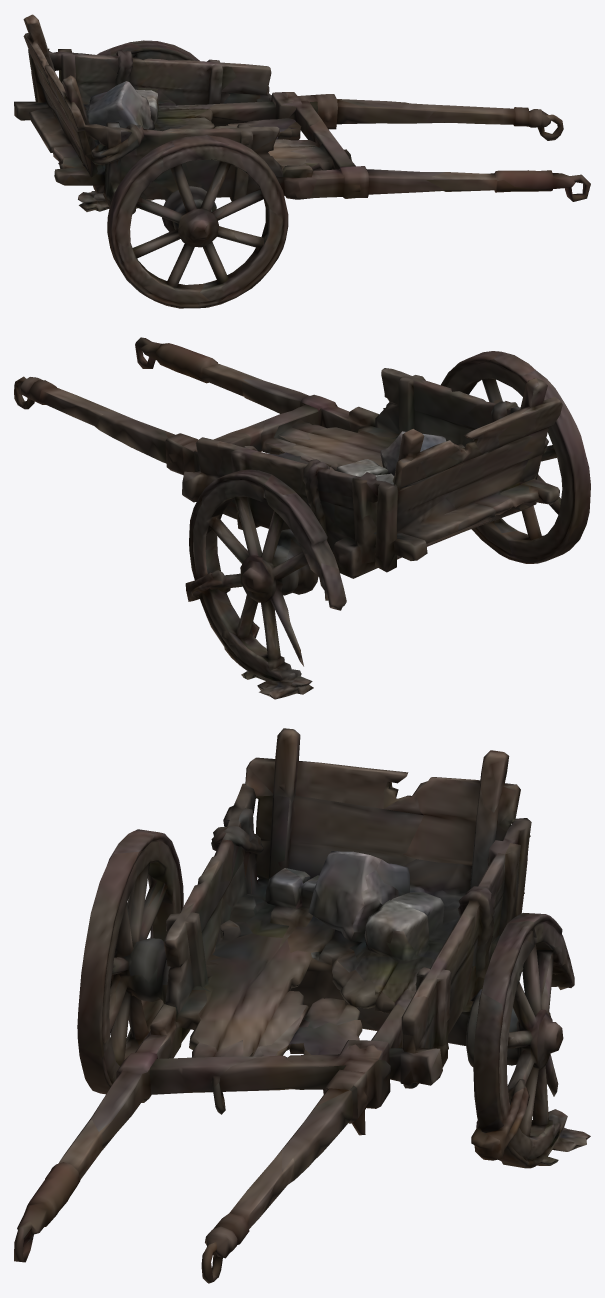
Rendered from broken-handcart.glb.
The picture shows the model from 3 angles, top to bottom: view 1: azimuth 30°, elevation 25°; view 2: azimuth 150°, elevation 25°; view 3: azimuth 270°, elevation 25°; orthographic projection. The views are drawn at different scales.
Parts seen in each view (by area): view 1: tripo_node_396214b1-44a0-49b8-9ddd-4580cb2011e9; view 2: tripo_node_396214b1-44a0-49b8-9ddd-4580cb2011e9; view 3: tripo_node_396214b1-44a0-49b8-9ddd-4580cb2011e9.
Part boxes in pixels (x1=…): tripo_node_396214b1-44a0-49b8-9ddd-4580cb2011e9: x1=14, y1=14, x2=590, y2=308; tripo_node_396214b1-44a0-49b8-9ddd-4580cb2011e9: x1=14, y1=337, x2=590, y2=699; tripo_node_396214b1-44a0-49b8-9ddd-4580cb2011e9: x1=14, y1=728, x2=590, y2=1283.
Size of the model in its own units: 1 by 0.4406 by 0.7075.
1 material, 1 textured.
